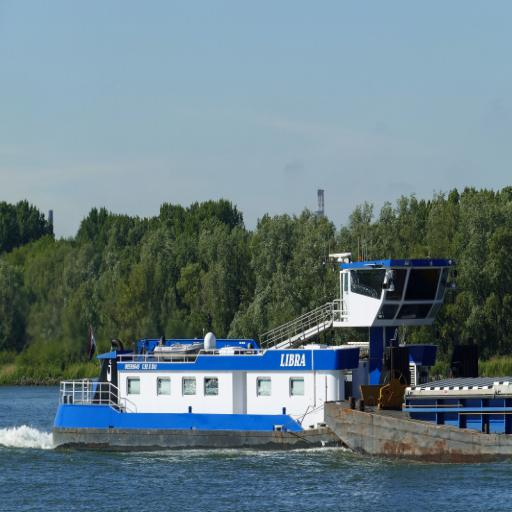tugboat: (52, 233, 466, 463)
